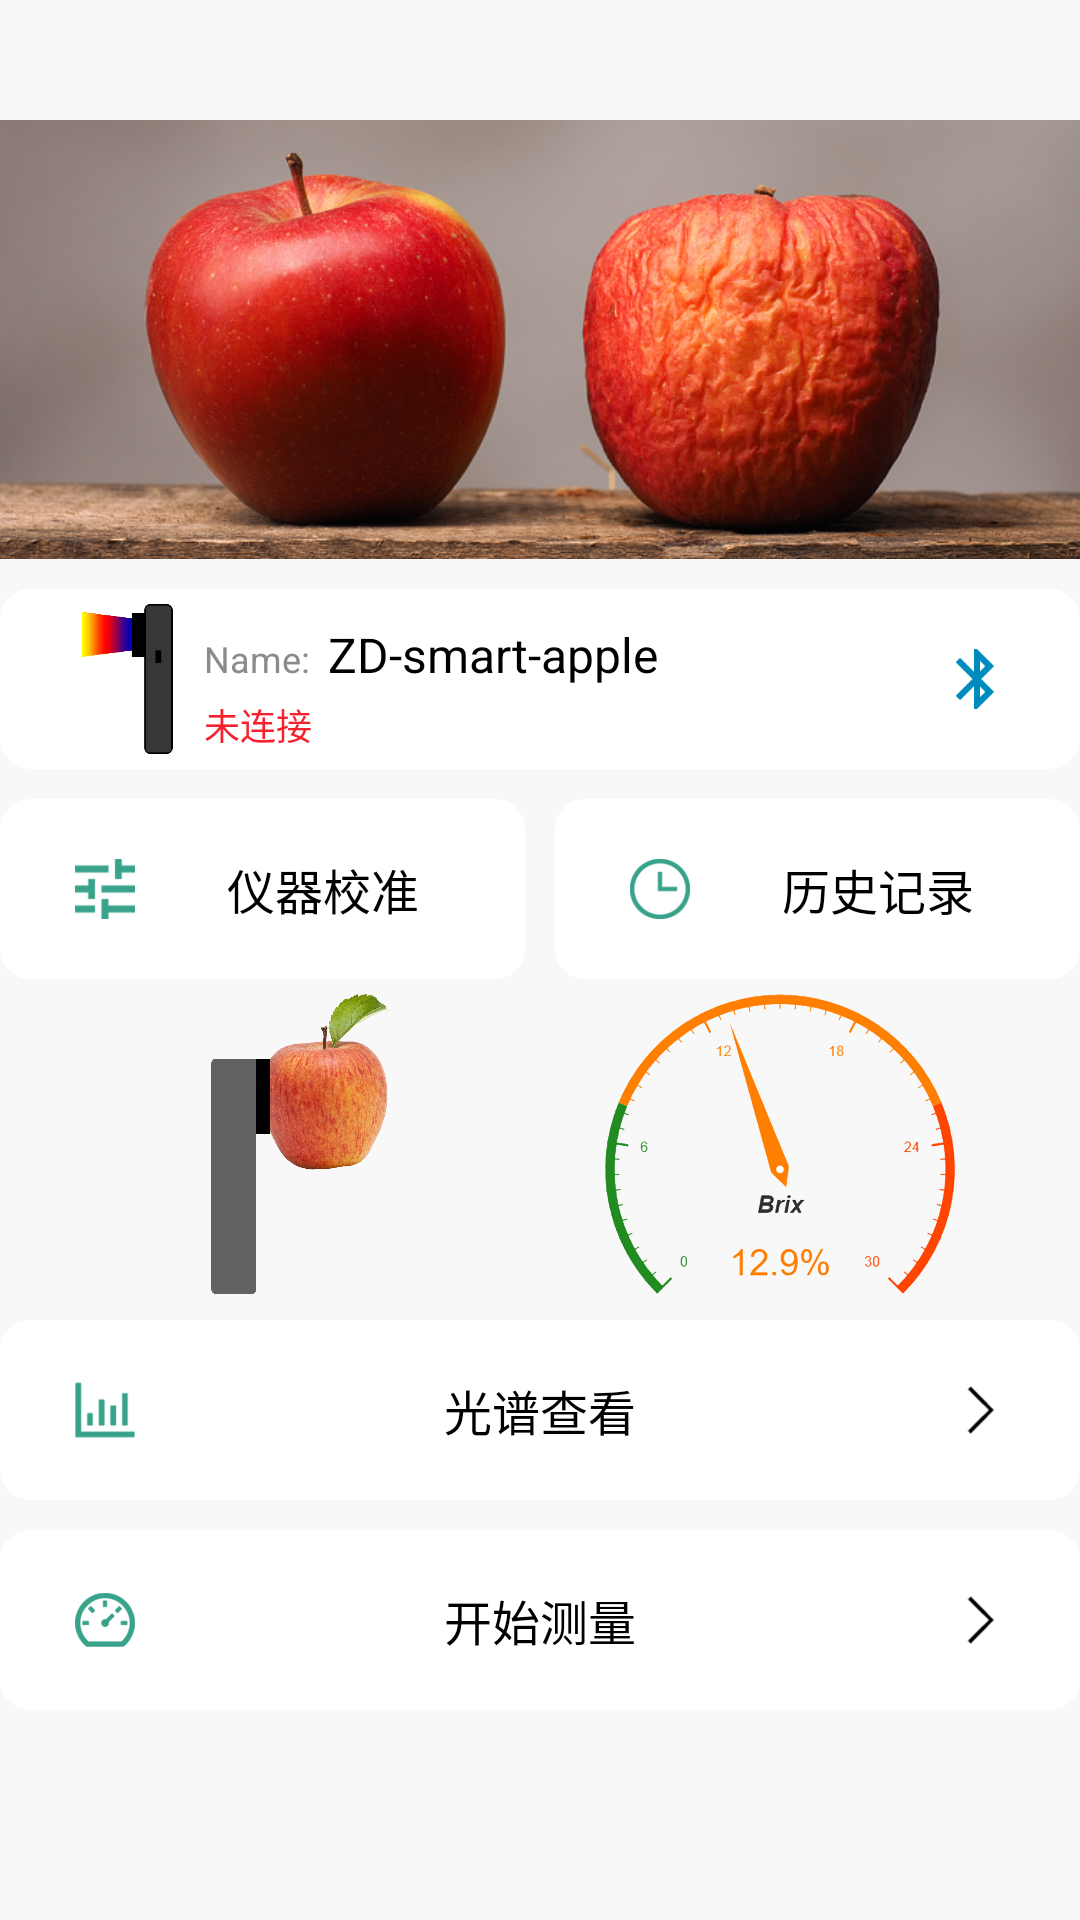

Where to tap for icons on this 1080px x 1920px app screen, as (x=x, y=y):
adjust: (x=105, y=889)
history: (x=660, y=889)
measure example: (x=299, y=1144)
start: (x=105, y=1620)
